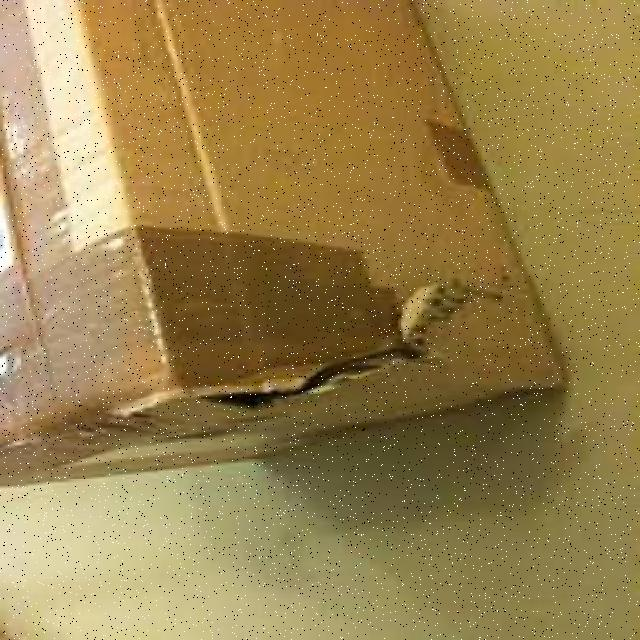defect: (1, 0, 566, 493)
